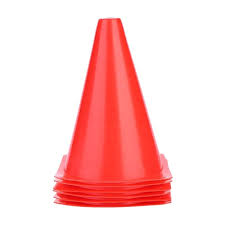cones: (53, 17, 180, 210)
